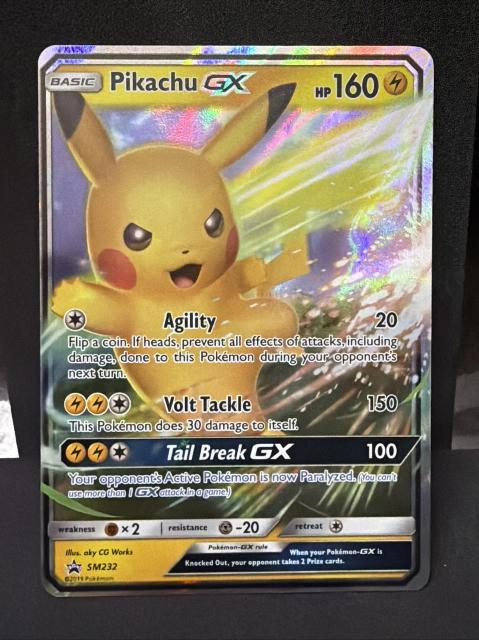Card: (35, 42, 436, 600)
Name: (109, 63, 259, 99)
